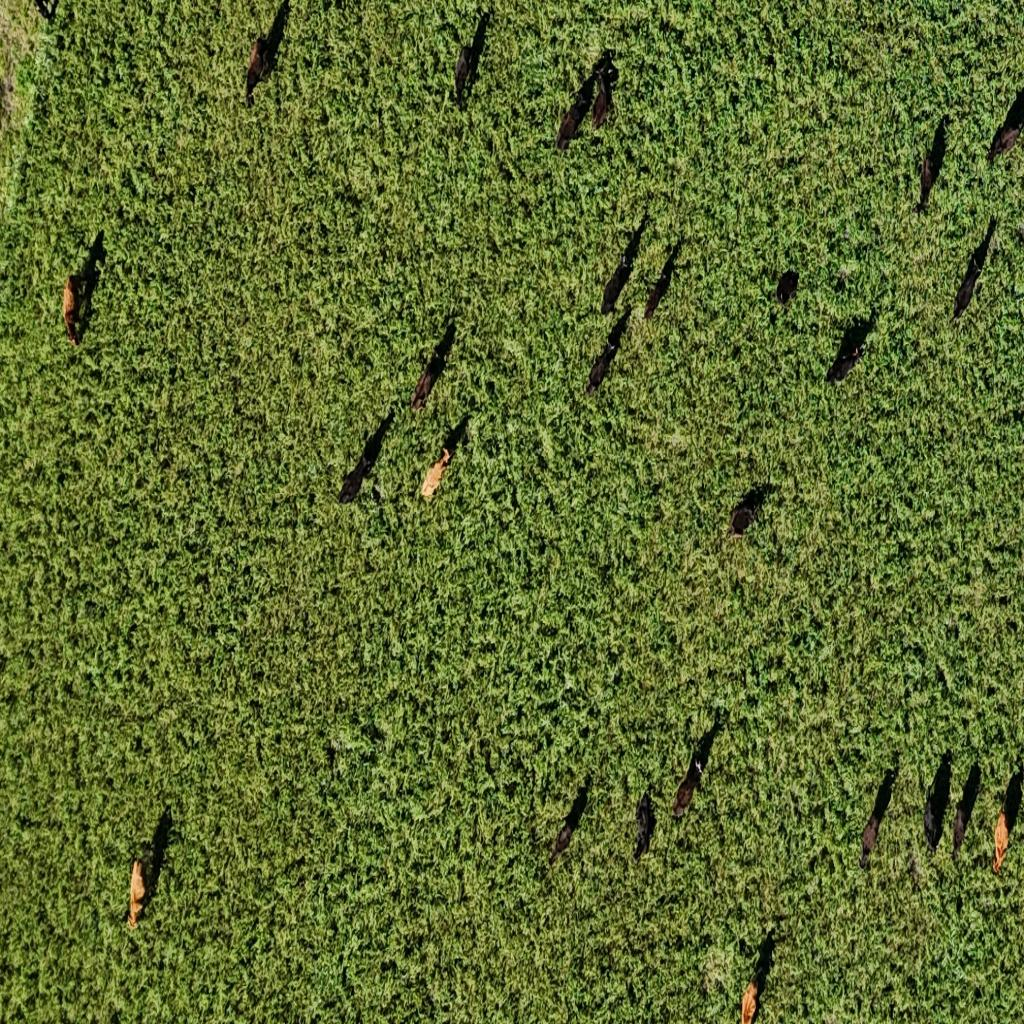cow: (439, 9, 496, 121), (126, 810, 172, 932), (339, 410, 395, 504), (64, 229, 107, 342), (601, 216, 646, 320), (420, 411, 471, 501), (952, 220, 996, 321), (858, 766, 897, 876), (587, 304, 632, 396), (556, 67, 602, 153), (548, 778, 590, 866), (644, 234, 685, 322), (824, 314, 872, 388), (245, 16, 282, 107), (995, 762, 1024, 872), (951, 760, 981, 862), (917, 117, 947, 213), (668, 749, 706, 823), (989, 86, 1024, 165), (922, 768, 949, 861), (589, 48, 618, 133), (692, 708, 724, 782), (727, 484, 767, 542), (409, 350, 446, 412), (740, 963, 769, 1024), (750, 930, 776, 998), (428, 317, 457, 370), (338, 458, 370, 506), (632, 794, 654, 862), (775, 270, 799, 307)
